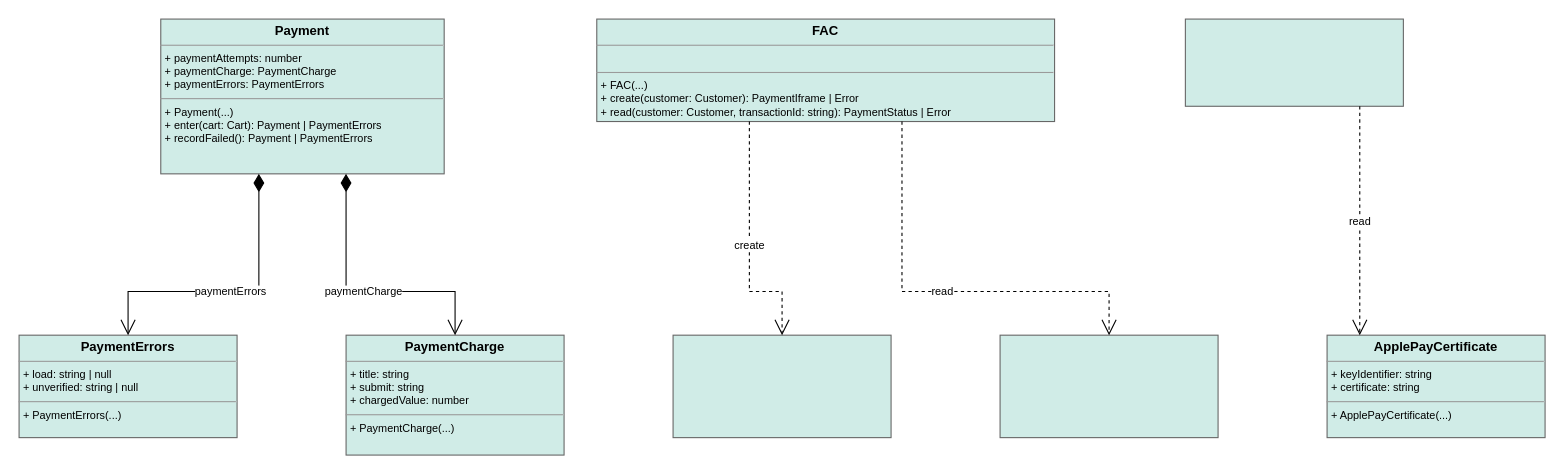
This 1564x474 diagram has some shape labels left out. The centre of each missing label's shape, as x and y in pixels:
"Apple + Apple(...) + read(): ApplePayCertificate" goes at point 1293,62.
"PaymentIframe + html: string + transactionId: string + PaymentIframe(...)" goes at point 781,386.
"PaymentStatus + status: string + reason: string + PaymentStatus(...)" goes at point 1108,386.
